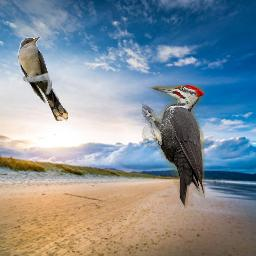Cuckoo: (18, 37, 68, 121)
Woodpecker: (142, 85, 205, 209)
